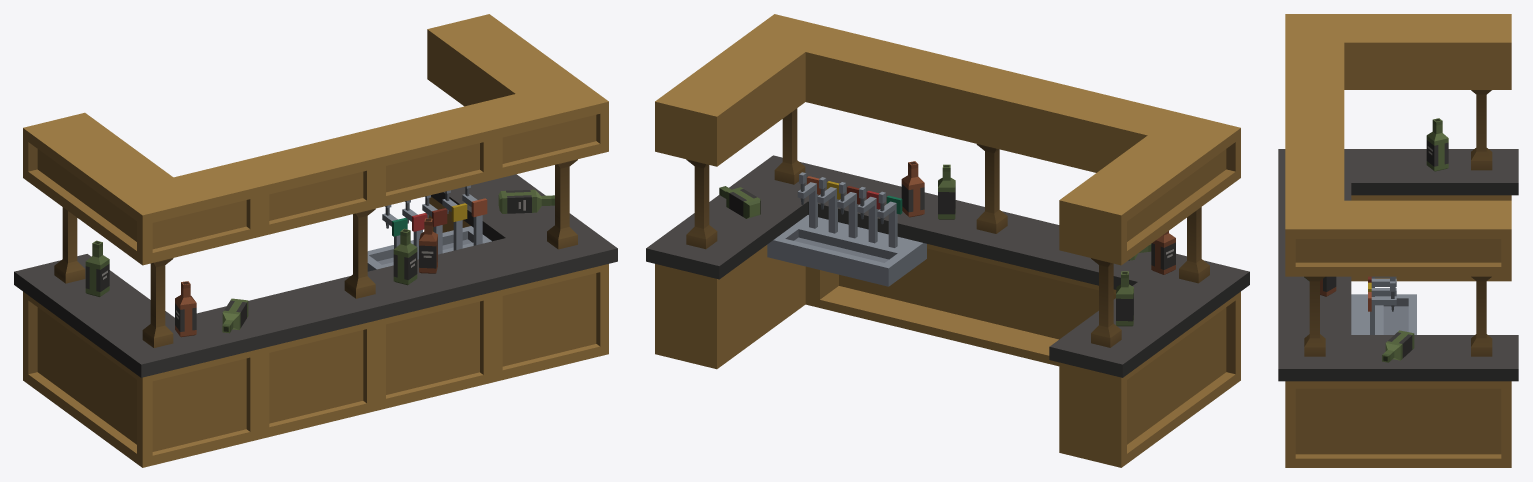
Rendered from AI_Prop_Bar_Counter.fbx.
3 views of the same model, side by side, from view 1: azimuth 30°, elevation 25°; view 2: azimuth 150°, elevation 25°; view 3: azimuth 270°, elevation 25° (orthographic). The views are drawn at different scales.
Visible parts, largest first — view 1: AI_Prop_Bar_Counter; view 2: AI_Prop_Bar_Counter; view 3: AI_Prop_Bar_Counter.
Boxes of the visible parts, x1=… form: AI_Prop_Bar_Counter: x1=14, y1=14, x2=617, y2=467; AI_Prop_Bar_Counter: x1=646, y1=14, x2=1249, y2=467; AI_Prop_Bar_Counter: x1=1278, y1=14, x2=1518, y2=467.
Bounding box in the file's own units: 7.18 × 3.63 × 3.31.
